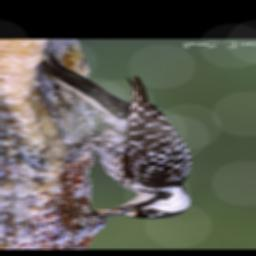Woodpecker: (42, 55, 195, 219)
